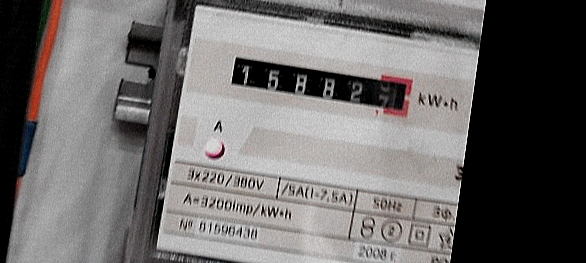1: (237, 62, 254, 86)
2: (346, 79, 366, 105)
5: (264, 66, 282, 93)
7: (376, 90, 390, 109)
8: (320, 76, 337, 101), (292, 72, 308, 97)
screen: (220, 46, 422, 128)
